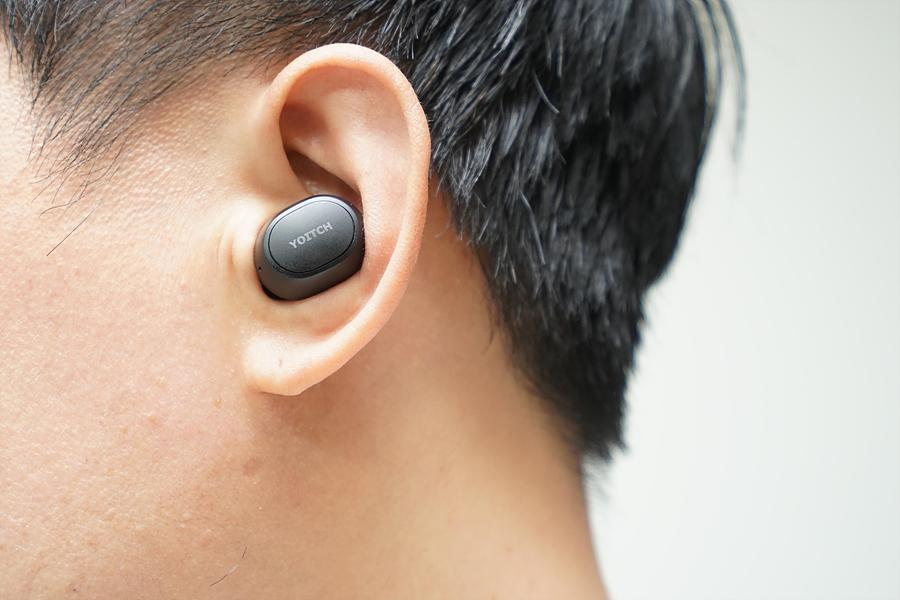earphone: (247, 189, 385, 319)
